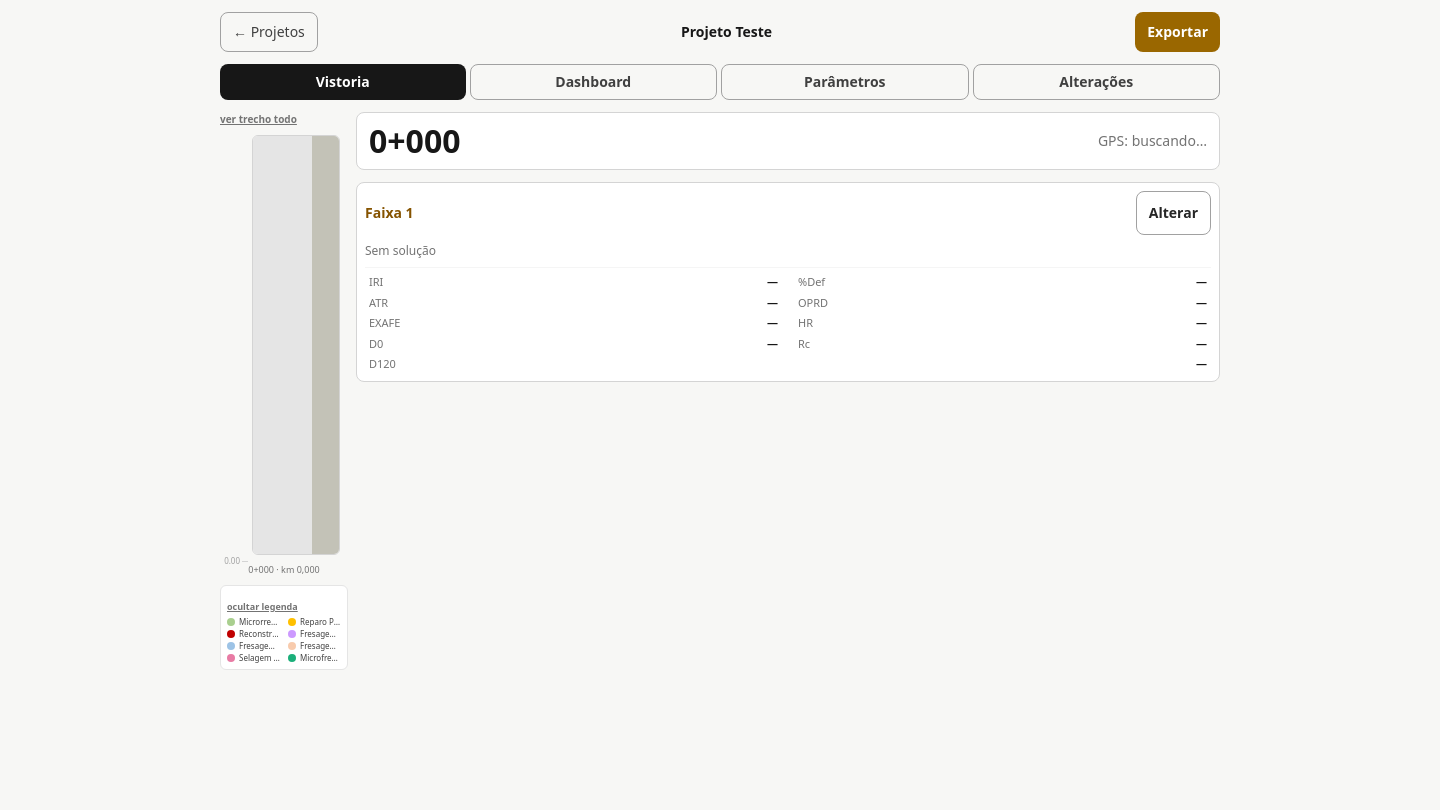
Test: VistoriaScreen — clique na régua atualiza os cards de Faixa (regressão pós-rodada-4) › GPS avançar a estaca ativa enquanto a folha de edição está aberta não desvia a edição pra estaca nova (bug relatado na rodada 6)
Click the button "Alterar": x=1173, y=213 [1136,191,1211,235]
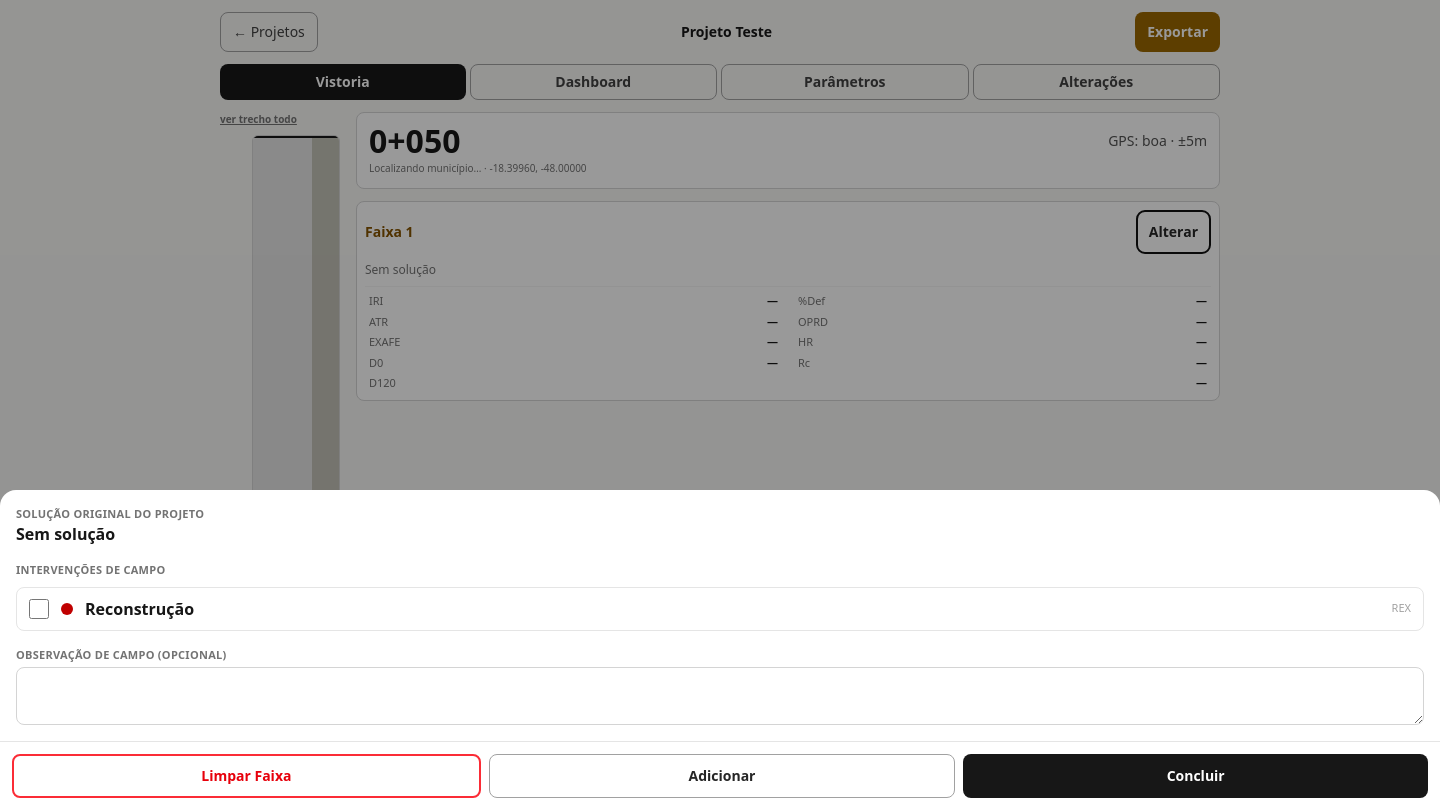
Result: the text "0+050" is shown at [369,125,460,157]
Result: the text "Sem solução" is shown at [16,523,115,545]
Click the text "Reconstrução": x=140, y=608 [85,596,194,620]
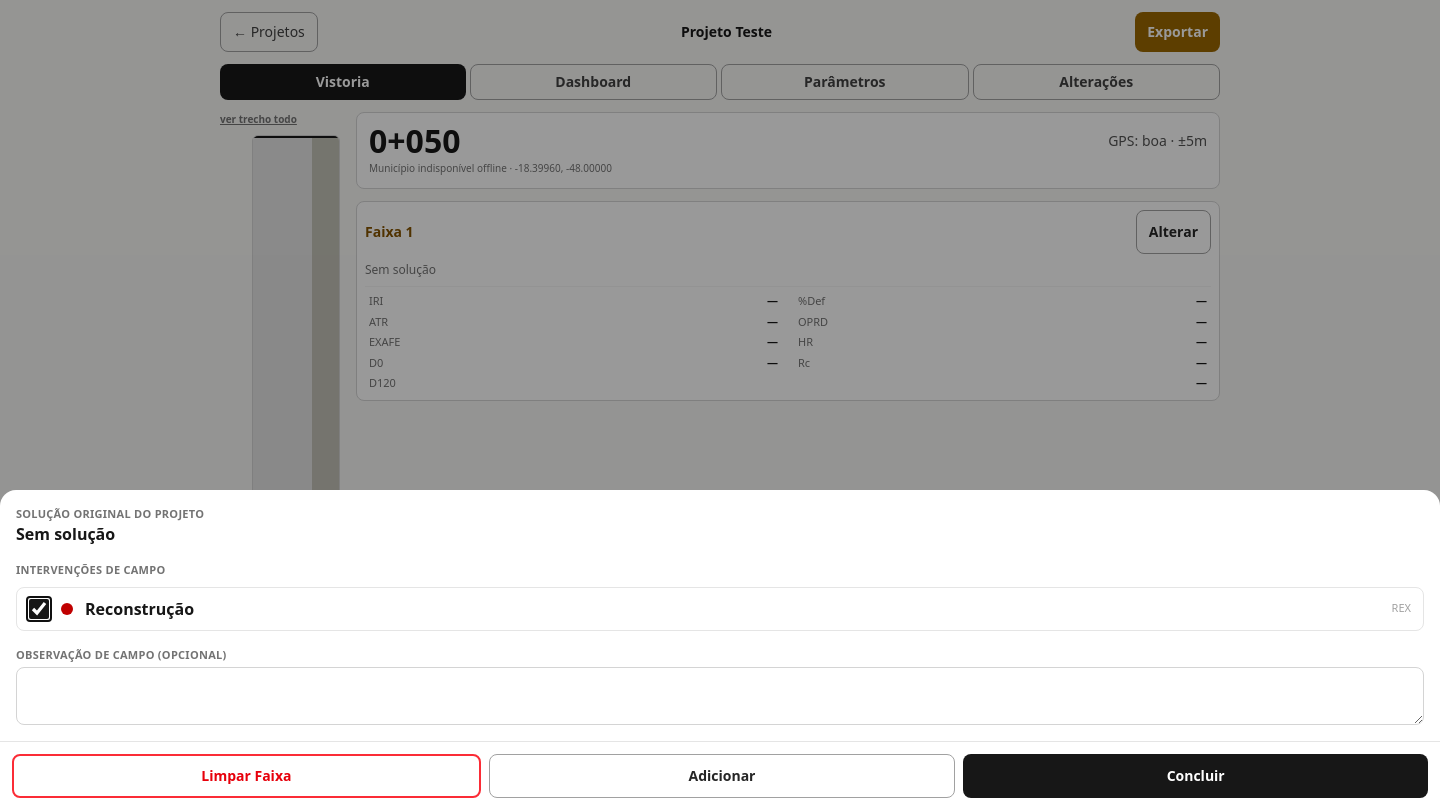
Click the button "Adicionar": x=722, y=776 [489,754,955,798]
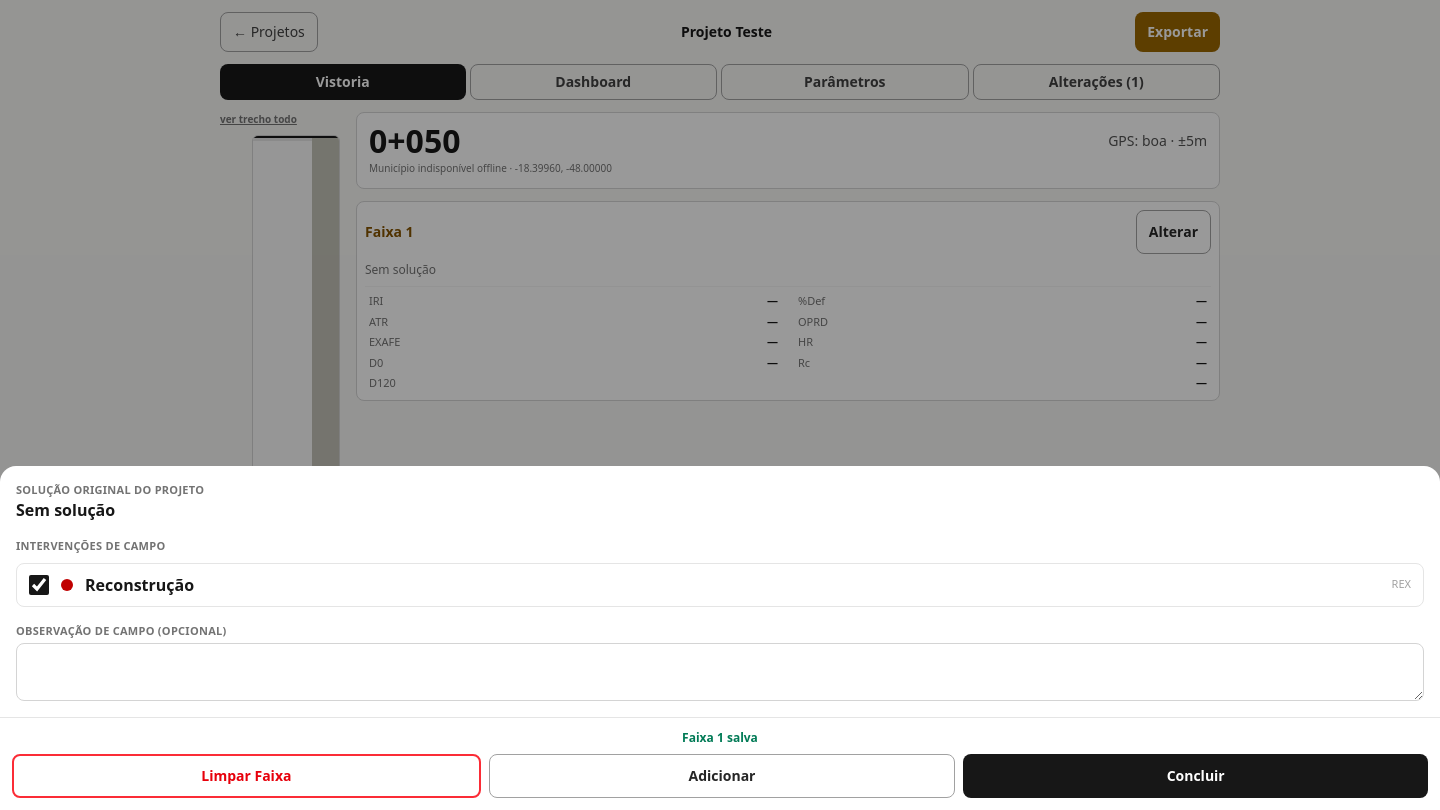
Result: the text "Faixa 1 salva" is shown at [682,729,758,746]
Click the button "Concluir": x=1196, y=776 [963,754,1428,798]
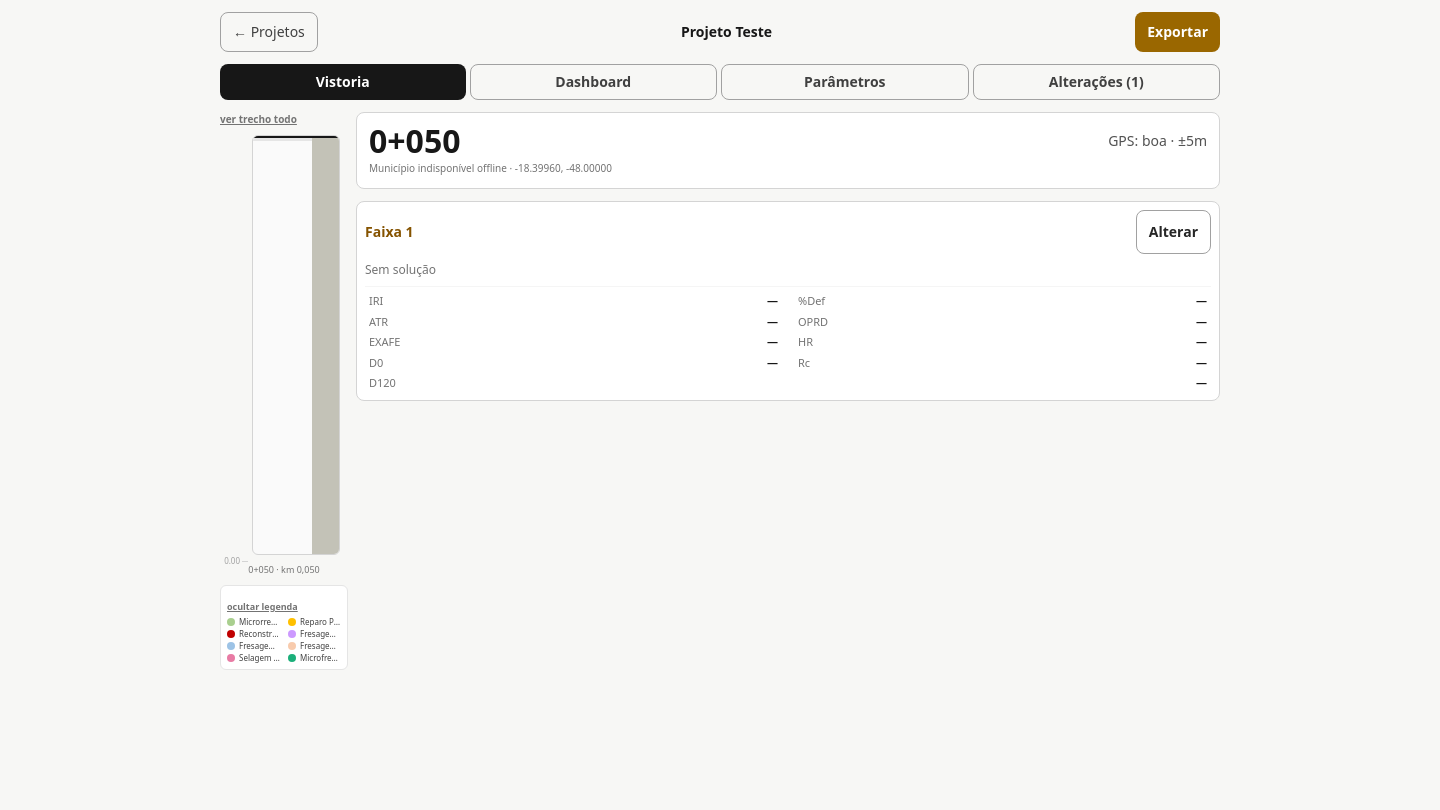
Click the button "Alterações (1)": x=1096, y=82 [972,64,1220,100]
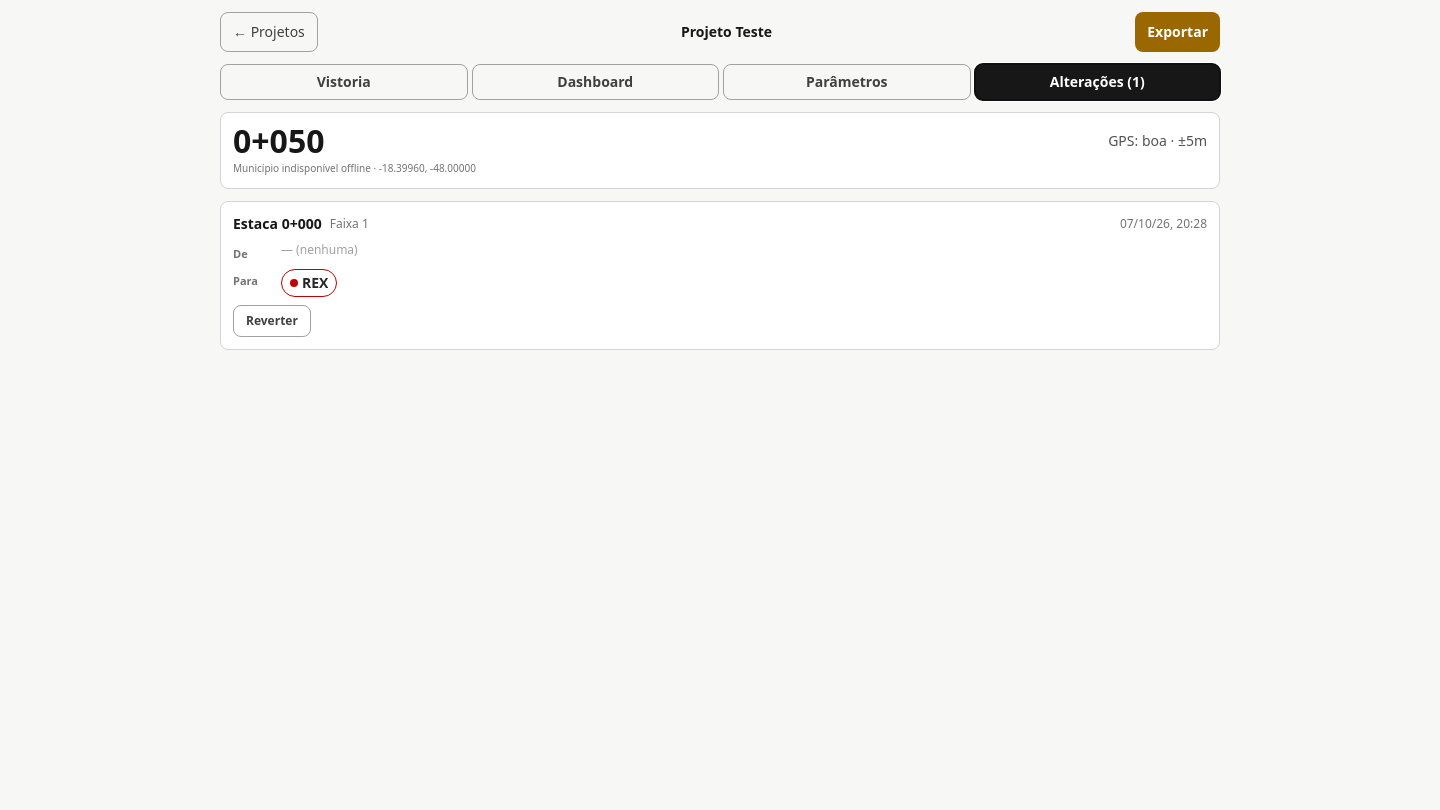
Result: the text "Estaca 0+000" is shown at [233,214,322,234]
